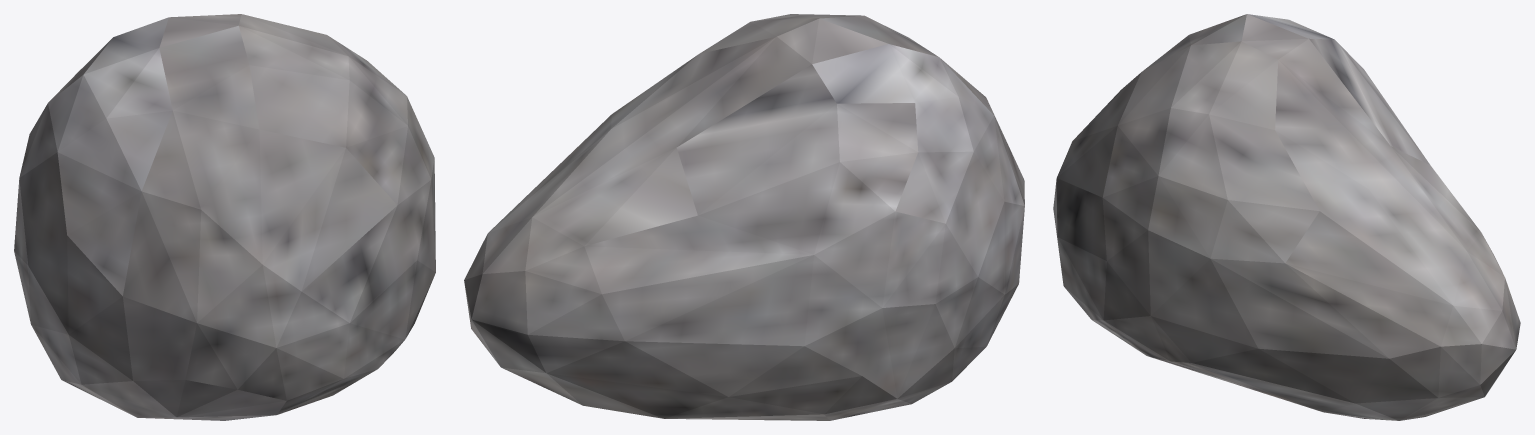
File: Stone.fbx
3 views of the same model, side by side, from view 1: azimuth 30°, elevation 25°; view 2: azimuth 150°, elevation 25°; view 3: azimuth 270°, elevation 25° (orthographic). The views are drawn at different scales.
Visible parts, largest first — view 1: Icosphere.001; view 2: Icosphere.001; view 3: Icosphere.001.
Part boxes in pixels (x1,y1,x2,y2): Icosphere.001: (14,14,435,420); Icosphere.001: (464,14,1024,420); Icosphere.001: (1053,14,1520,420).
Bounding box in the file's own units: 177 × 144 × 190.
1 material, 1 textured.
